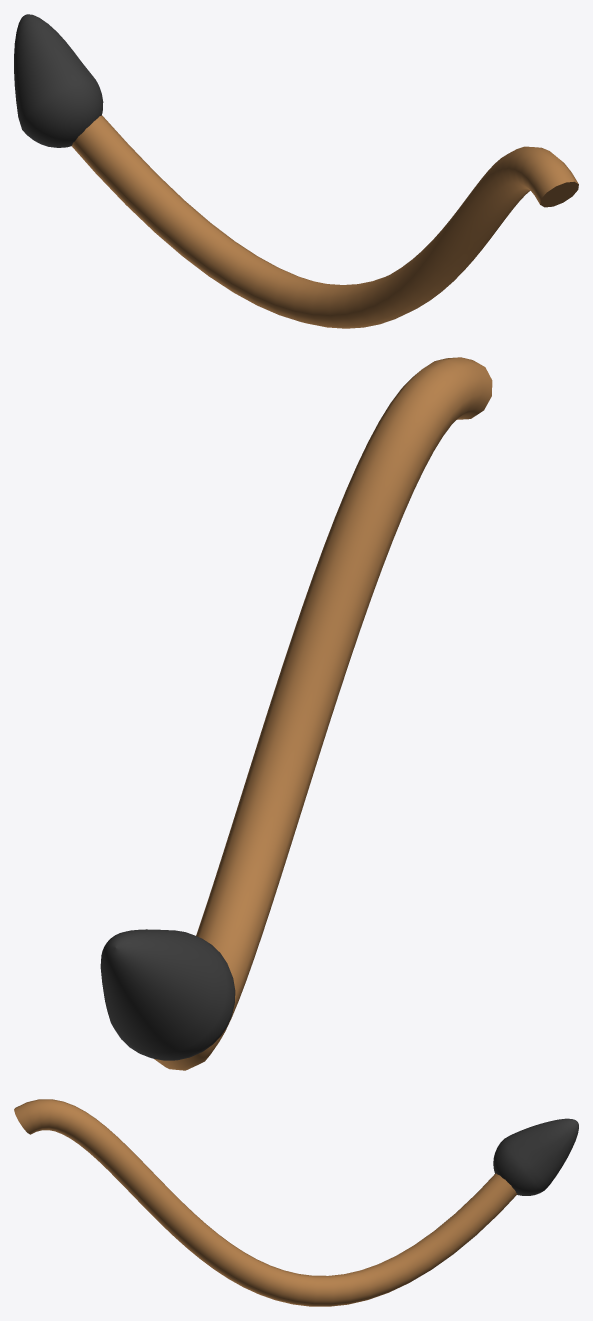
File: tail_1.fbx
3 renders of one model, top to bottom at view 1: azimuth 30°, elevation 25°; view 2: azimuth 150°, elevation 25°; view 3: azimuth 270°, elevation 25°, orthographic. The views are drawn at different scales.
Parts seen in each view (by area): view 1: NurbsCurve.002; view 2: NurbsCurve.002; view 3: NurbsCurve.002.
Boxes of the visible parts, box(x1,y1,x2,y2) form: NurbsCurve.002: box(14, 14, 578, 328); NurbsCurve.002: box(100, 357, 492, 1070); NurbsCurve.002: box(14, 1099, 578, 1306).
Size of the model in its own units: 22 by 30.77 by 72.39.
